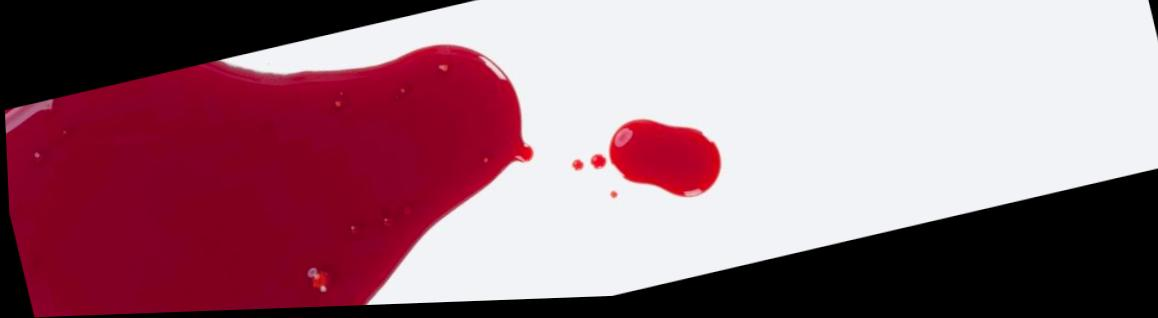Fire: (4, 46, 532, 317), (607, 122, 720, 202), (588, 157, 605, 173), (569, 162, 582, 175)
